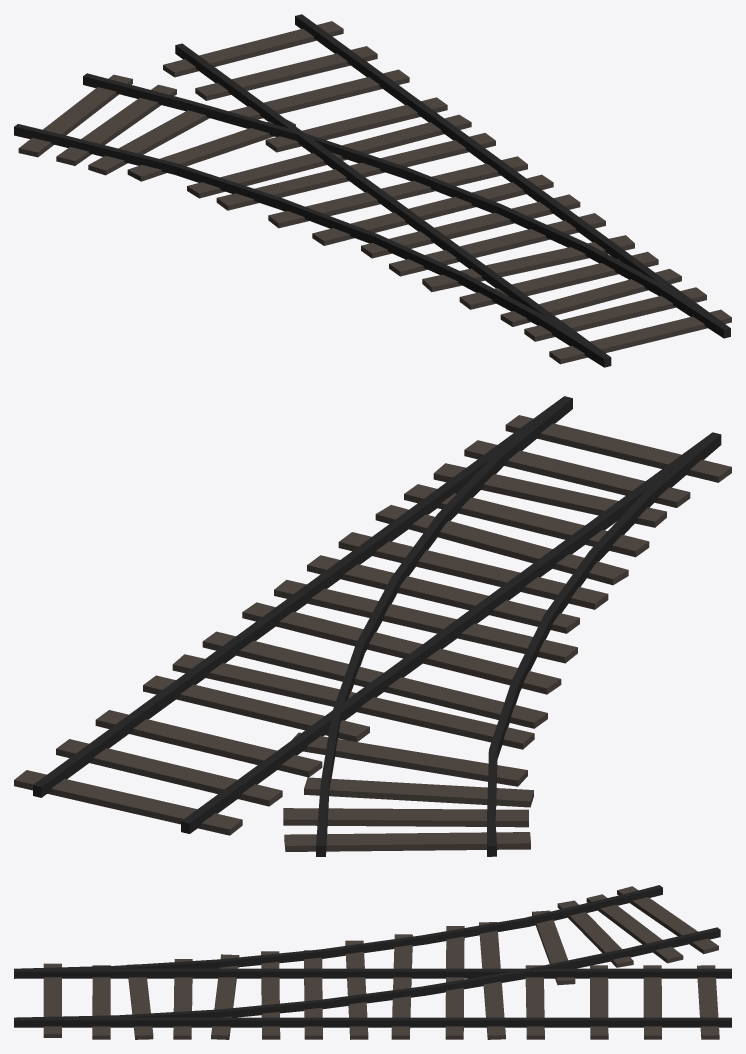
Rendered from Track_Straight_Combined.fbx.
The picture shows the model from 3 angles, top to bottom: view 1: azimuth 30°, elevation 25°; view 2: azimuth 150°, elevation 25°; view 3: azimuth 270°, elevation 25°; orthographic projection. The views are drawn at different scales.
Visible parts, largest first — view 1: Track_Combined; view 2: Track_Combined; view 3: Track_Combined.
Boxes of the visible parts, x1,y1,x2,y2 form: Track_Combined: [14, 14, 731, 367]; Track_Combined: [14, 396, 731, 856]; Track_Combined: [14, 885, 731, 1039].
Size of the model in its own units: 3.05 by 0.0939 by 6.18.
